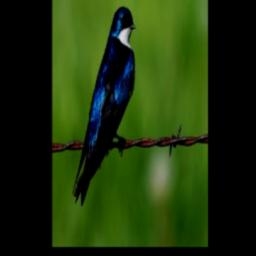Swallow: (72, 6, 136, 206)
